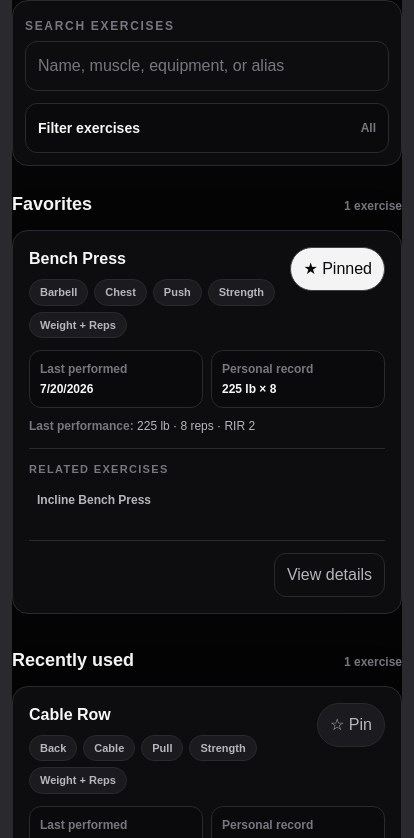
ExerciseLibraryBrowser › searches aliases case-insensitively while trimming whitespace
Type "  FLAT BENCH  " into the search field labelled "Search exercises" at (207, 66), box left=25, top=41, right=389, bottom=91
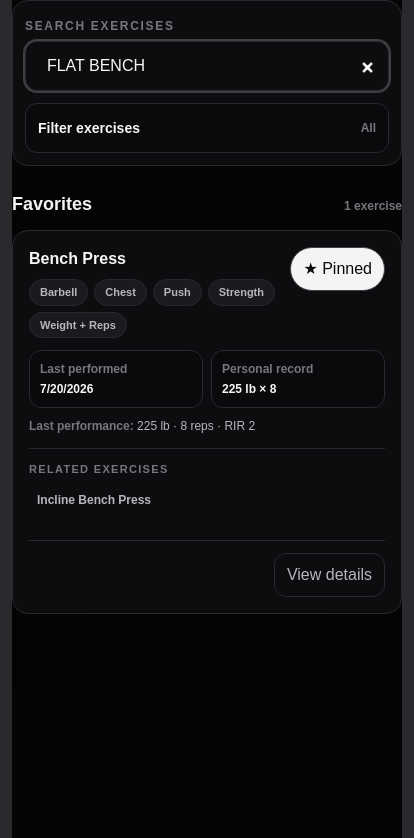
Expected: the heading "Bench Press" is shown, left=29, top=250, right=126, bottom=267
Now the link "Cable Row" is gone
